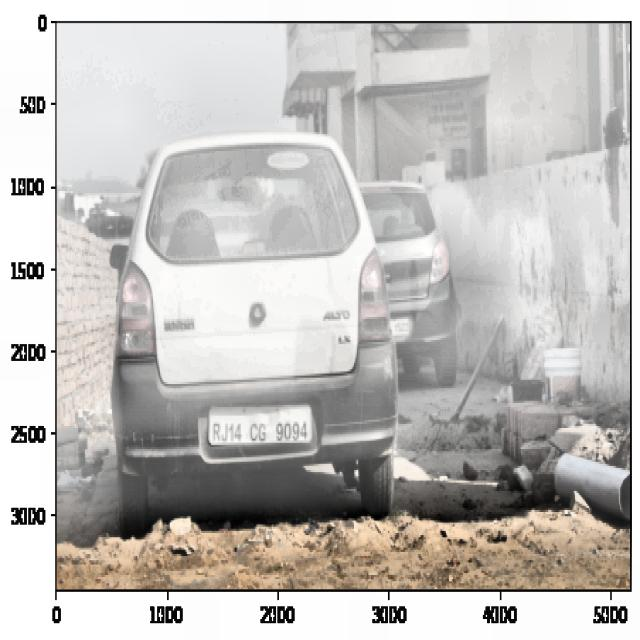license_plate: (208, 413, 312, 453)
